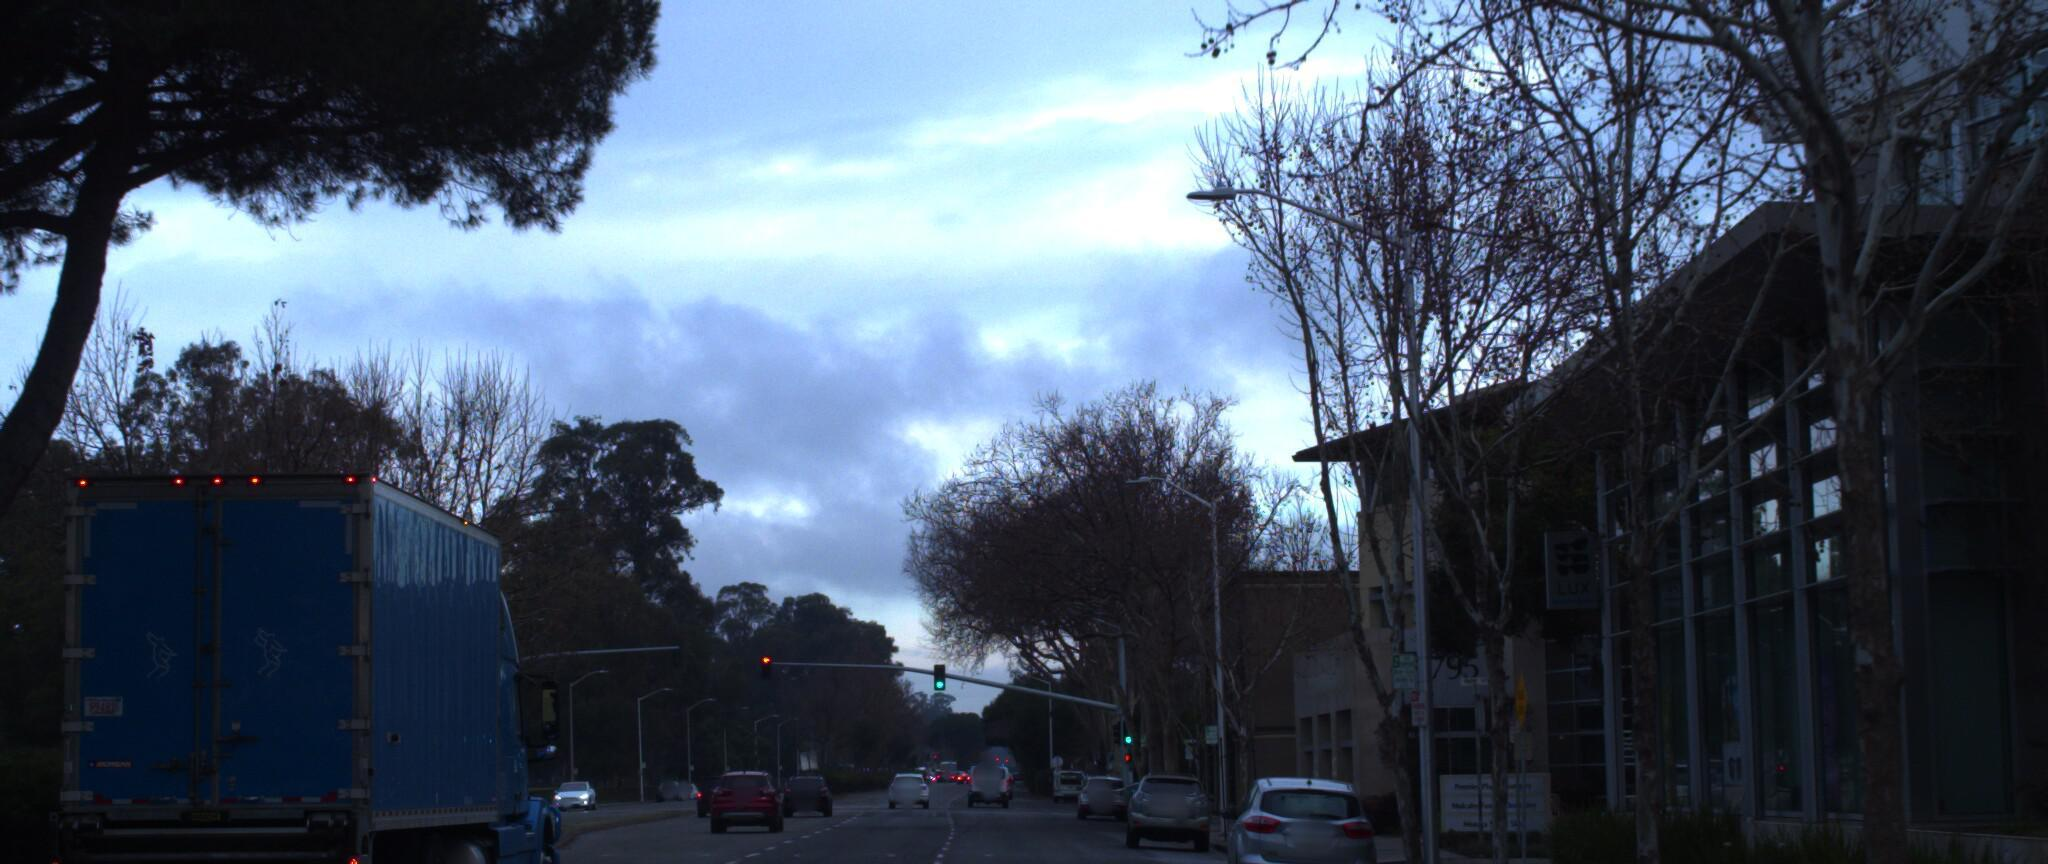car: (1230, 757, 1371, 864), (1127, 753, 1208, 835), (696, 764, 782, 827)
truck: (0, 435, 596, 864)
